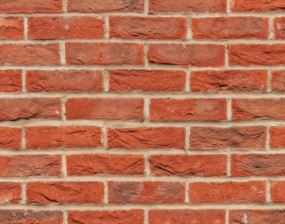brick: (190, 124, 268, 151), (148, 41, 225, 67), (108, 14, 188, 39), (65, 40, 145, 65), (26, 67, 104, 92), (149, 153, 229, 177), (191, 15, 270, 39), (26, 125, 105, 149), (67, 153, 146, 177), (27, 14, 105, 38), (108, 126, 186, 150), (27, 181, 105, 205), (68, 97, 144, 121), (108, 68, 186, 91), (188, 180, 268, 202), (149, 98, 228, 120), (109, 180, 187, 202), (1, 39, 61, 67), (191, 70, 266, 92), (1, 152, 64, 178), (230, 95, 285, 121), (230, 152, 285, 177), (229, 42, 285, 66), (1, 97, 62, 119), (150, 207, 227, 223), (68, 208, 146, 223), (1, 209, 64, 223), (230, 208, 285, 224), (149, 1, 227, 12), (1, 1, 63, 14), (67, 1, 143, 11), (1, 14, 24, 40), (232, 1, 285, 12), (1, 67, 23, 93), (1, 125, 23, 149), (1, 181, 22, 202)
